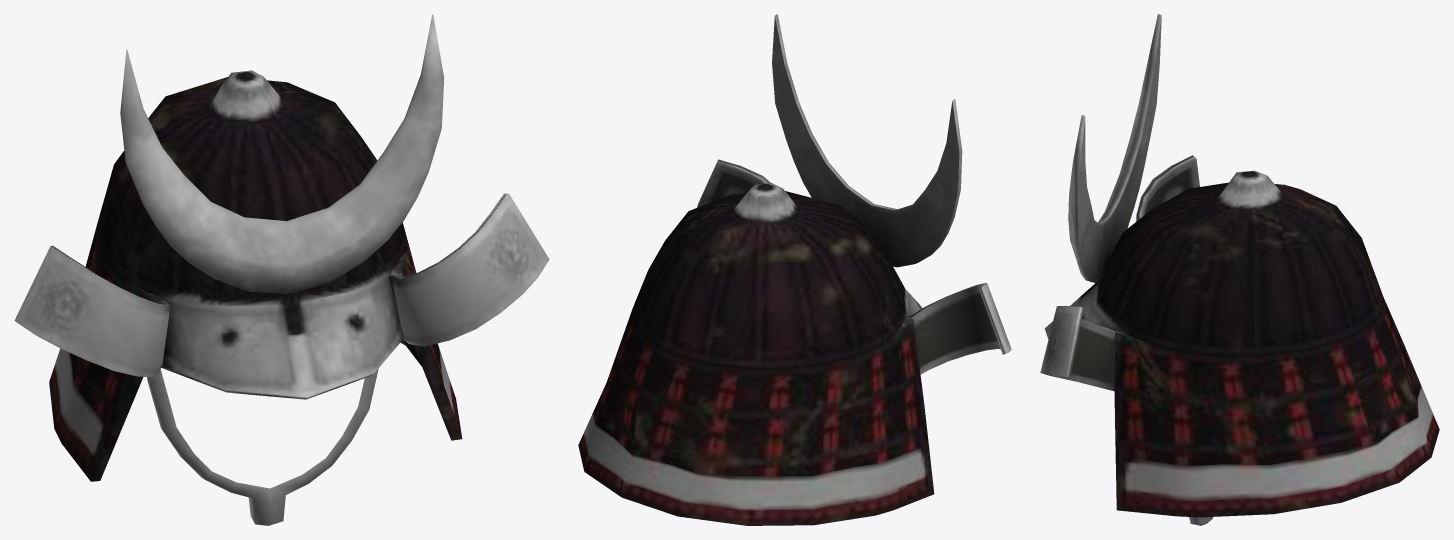
Rendered from helmet-heavydojosoldiers.glb.
3 renders of one model, left to right at view 1: azimuth 30°, elevation 25°; view 2: azimuth 150°, elevation 25°; view 3: azimuth 270°, elevation 25°, orthographic. The views are drawn at different scales.
Bounding box in the file's own units: 0.3989 × 0.4515 × 0.3651.
1 material, 1 textured.
